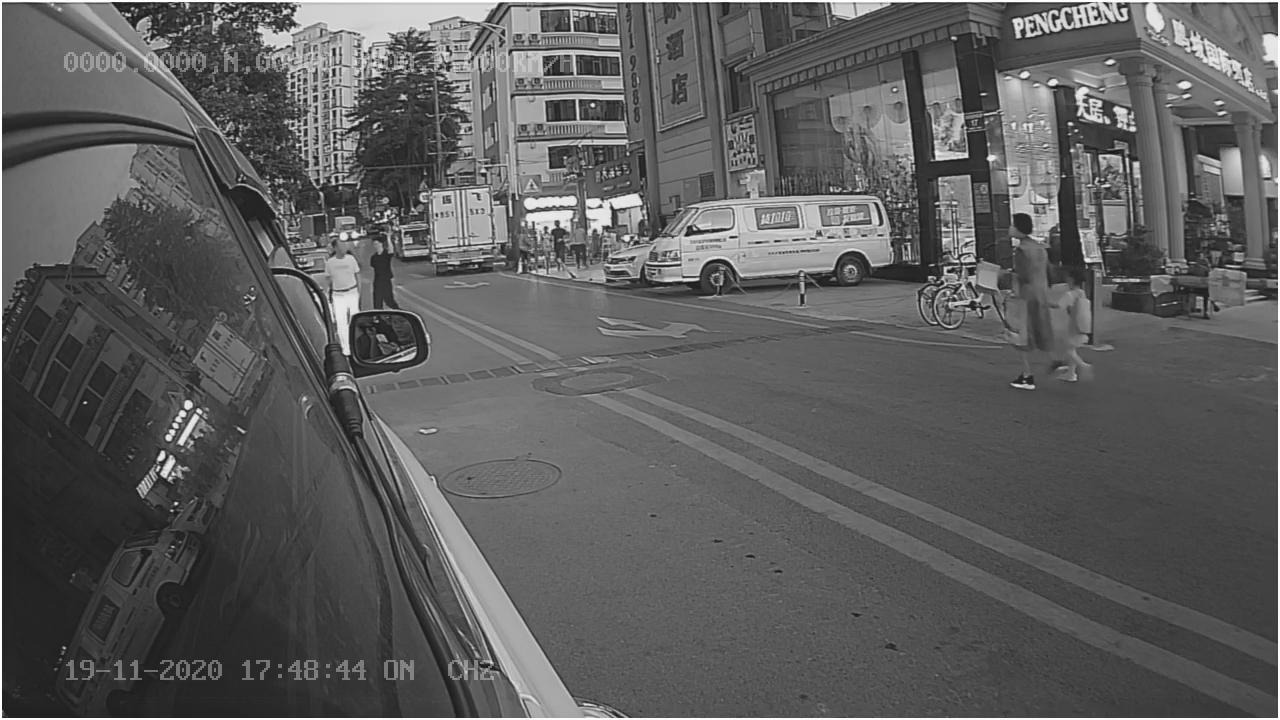person: (998, 210, 1073, 405)
